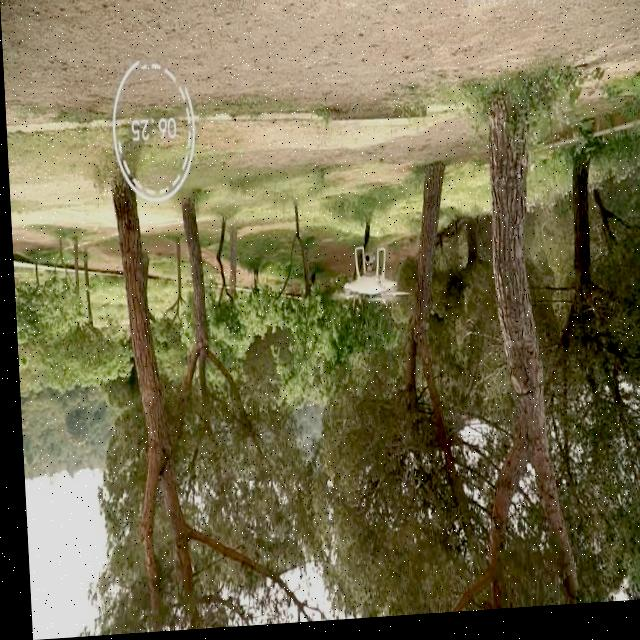drone: (324, 248, 410, 315)
